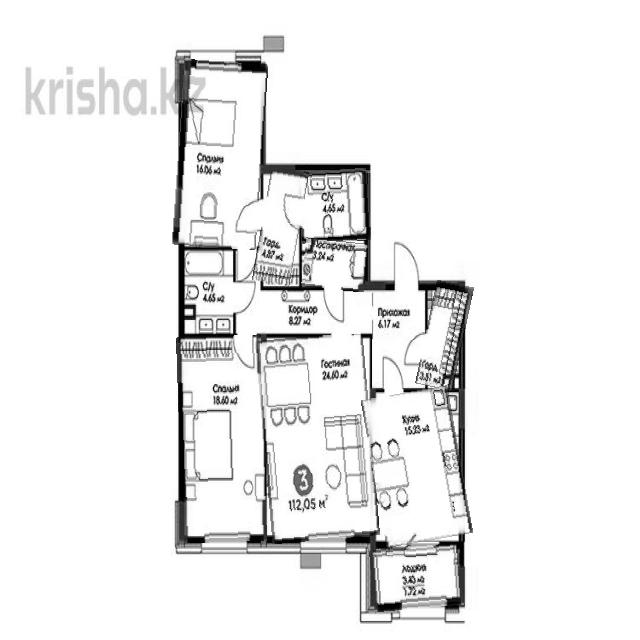balcony: (371, 545, 464, 611)
bathroom: (298, 169, 370, 243), (181, 250, 235, 334), (302, 238, 367, 291)
hallway: (236, 286, 374, 334), (373, 289, 425, 389)
kitchen: (368, 389, 468, 545)
living_room: (260, 334, 376, 542), (178, 335, 266, 543), (176, 61, 266, 250)
other: (257, 167, 305, 285), (421, 282, 469, 390)
